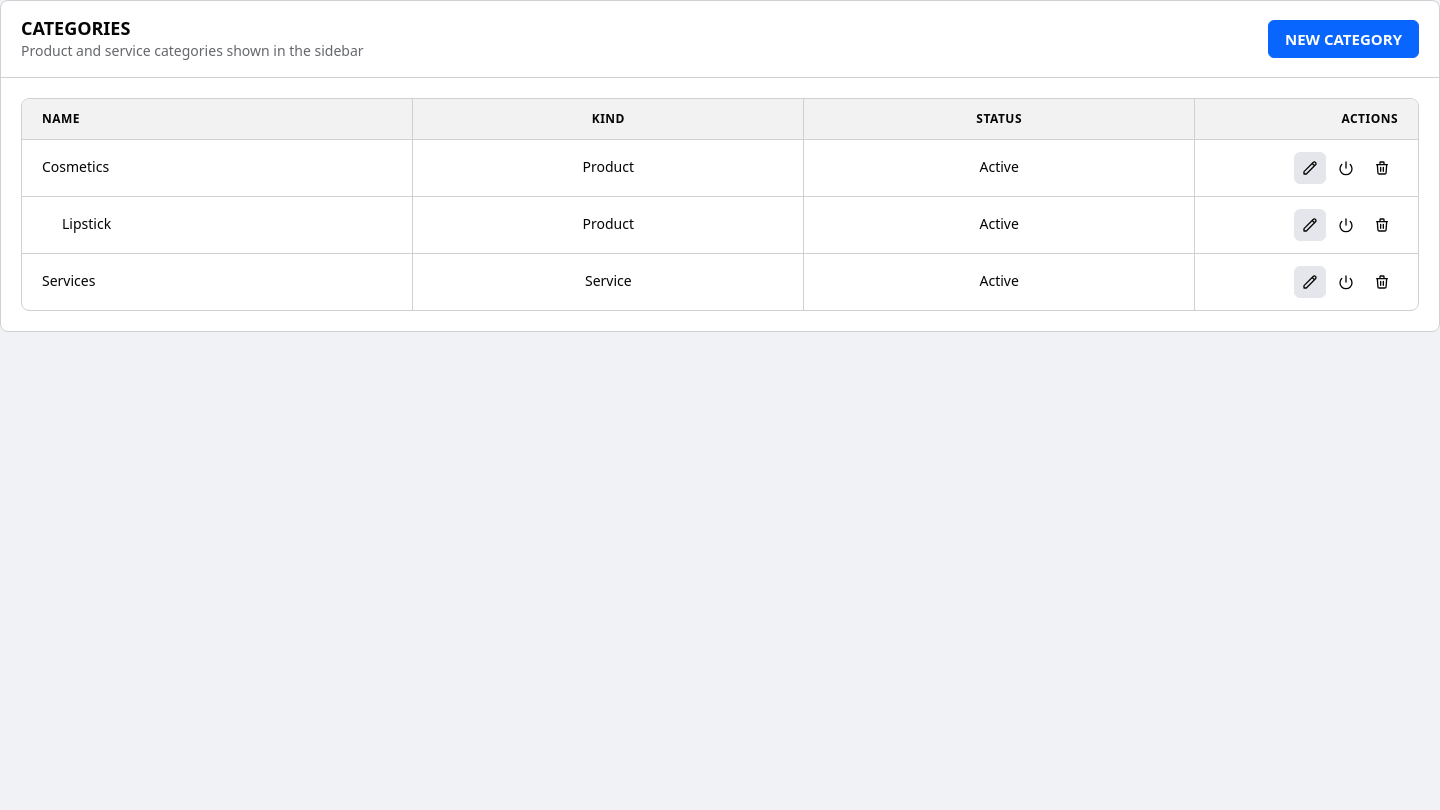
Test: CategoriesSection › opens the create modal
Expected: the text "Cosmetics" is shown, [42,158,109,177]
Click the button "New category": {"x": 1344, "y": 39} [1268,20,1419,58]
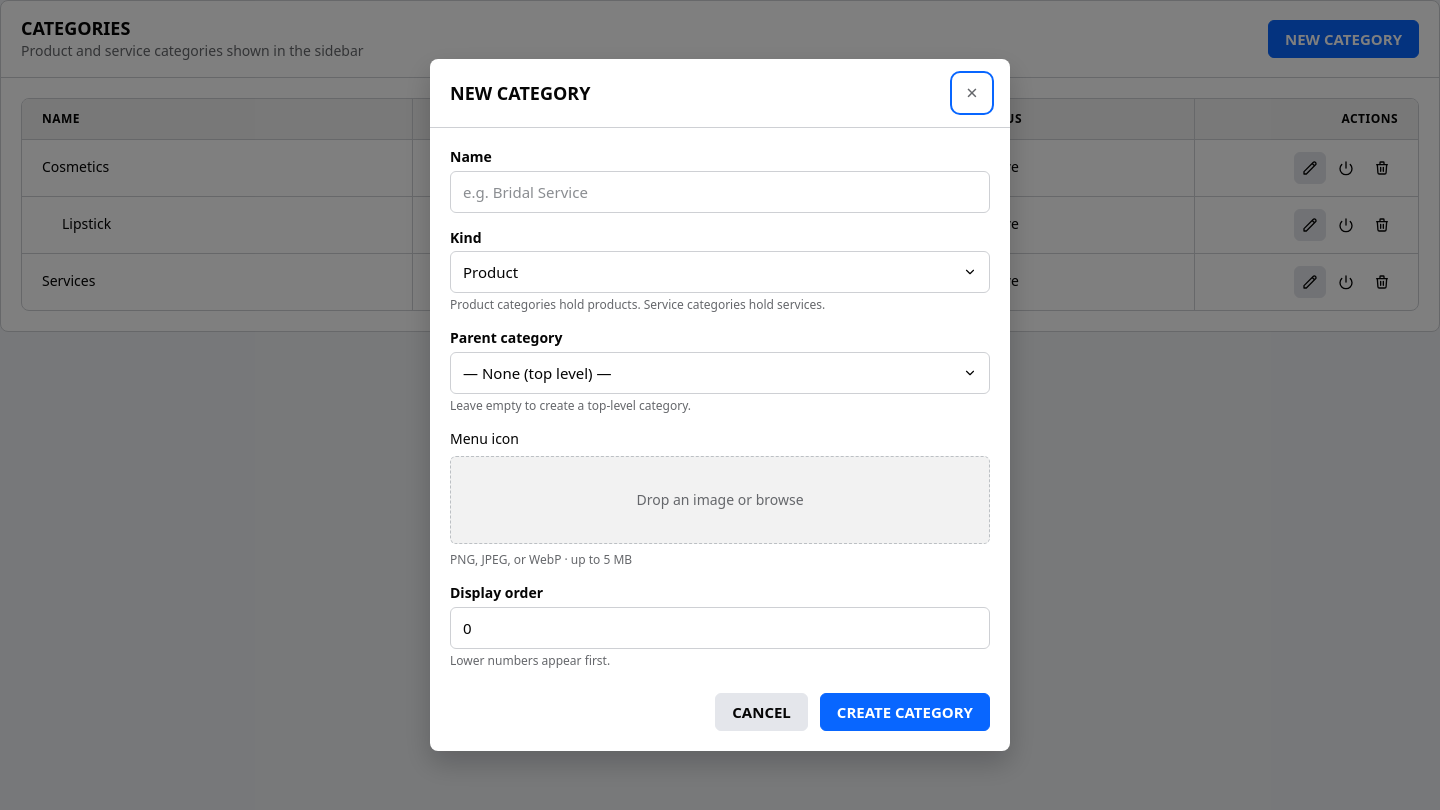
Now the dialog is shown, box [430,59,1010,751]
Now the field labelled "Name" is shown, box [450,170,990,212]
